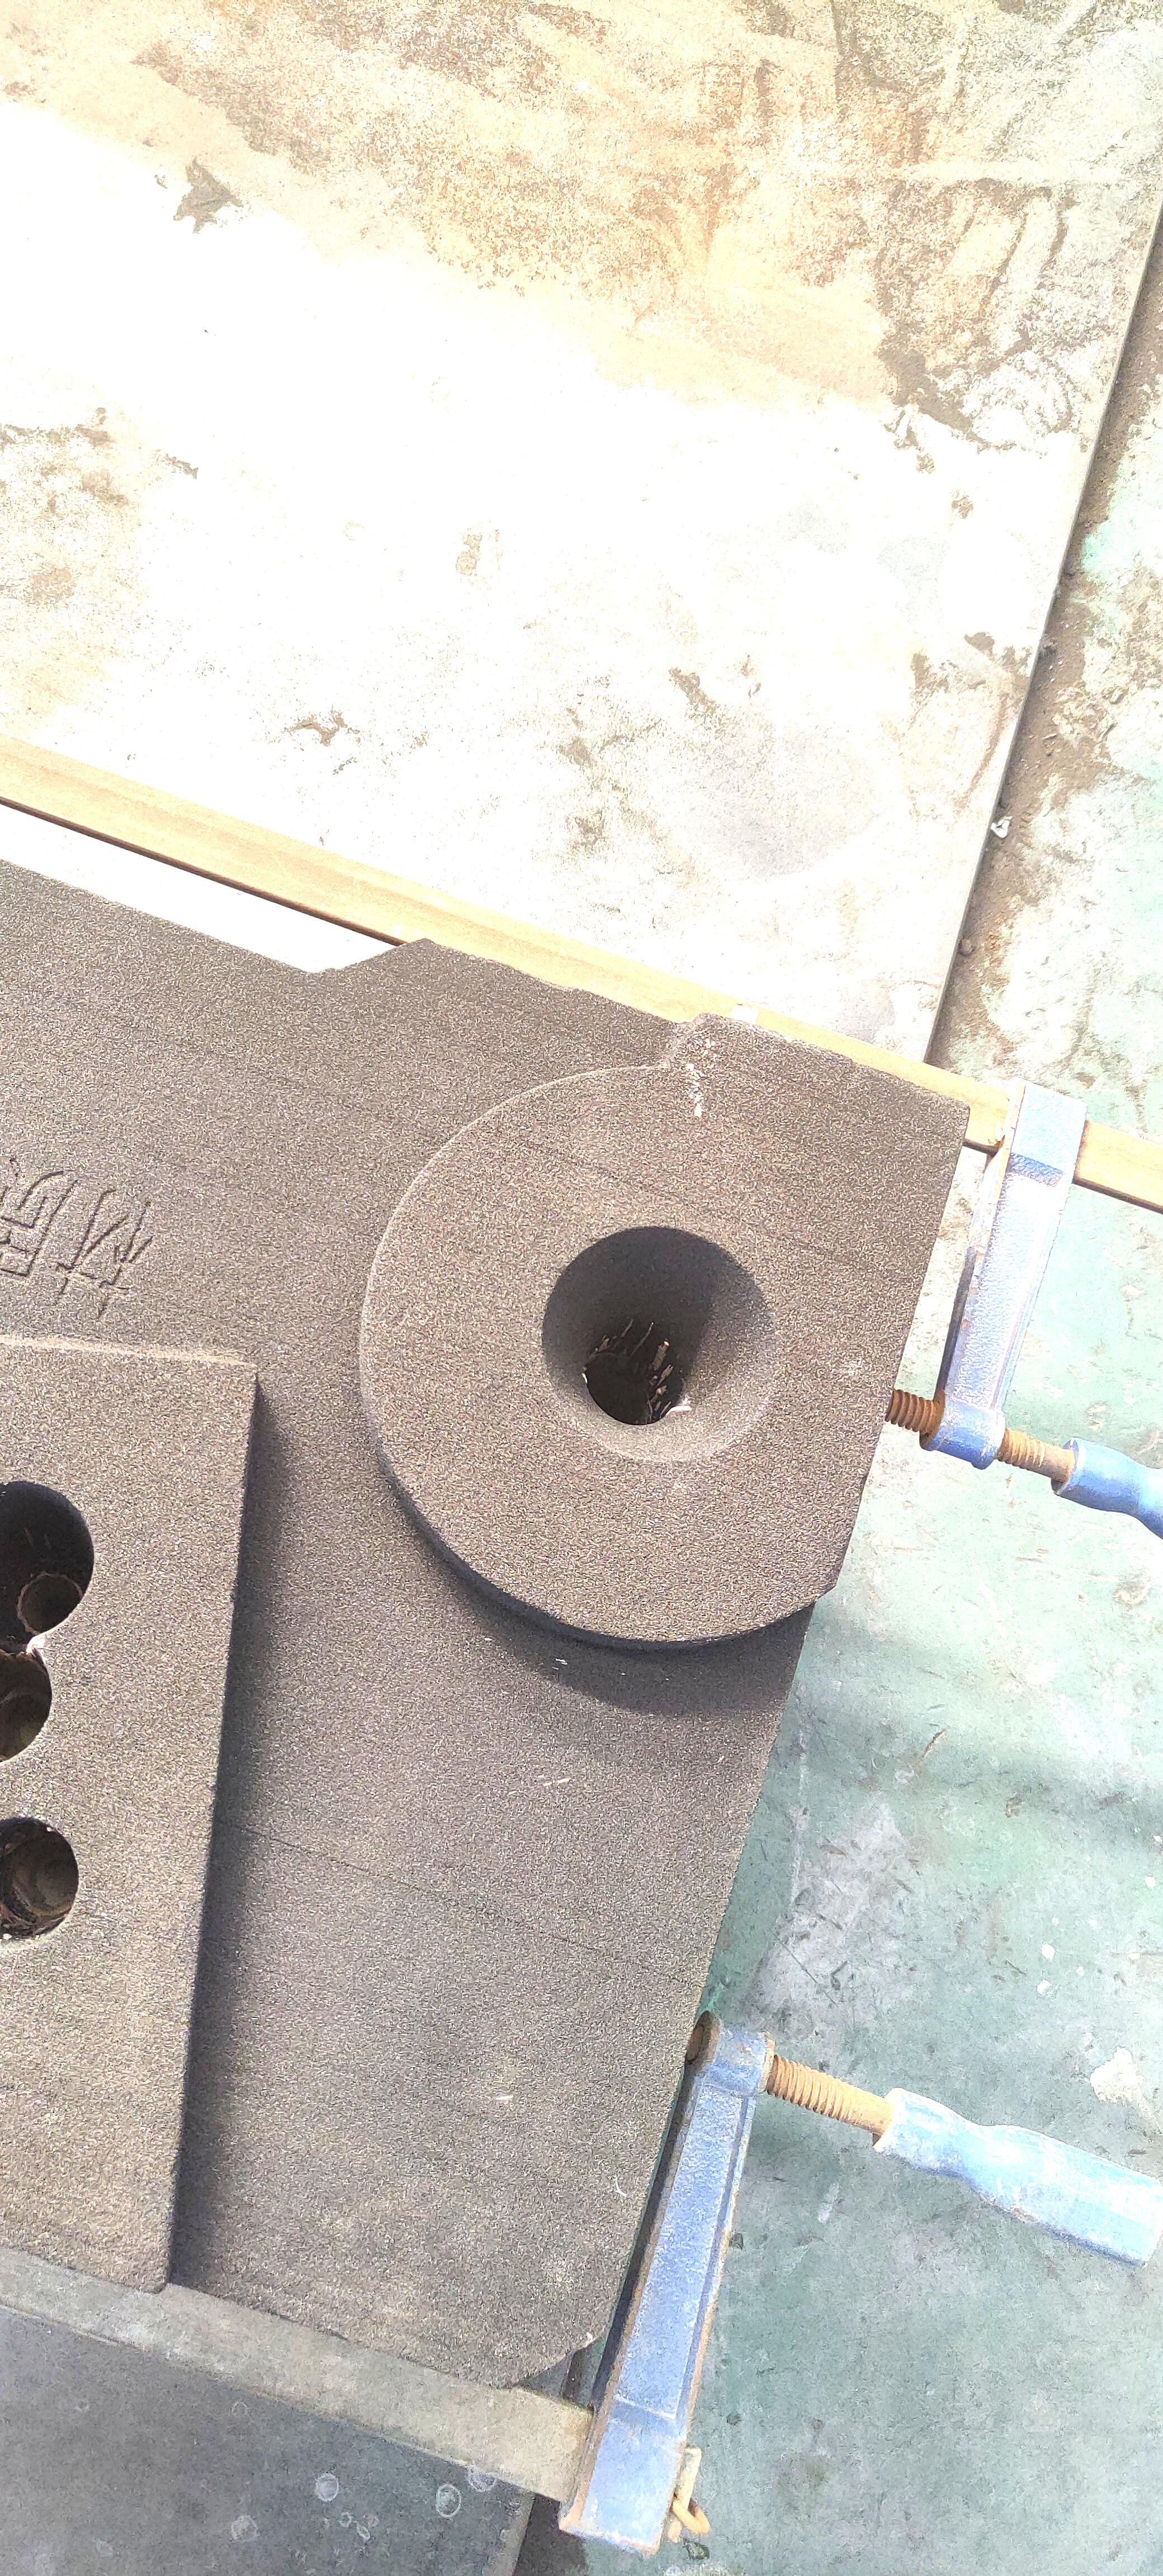pouring hole: (540, 1226, 777, 1464)
